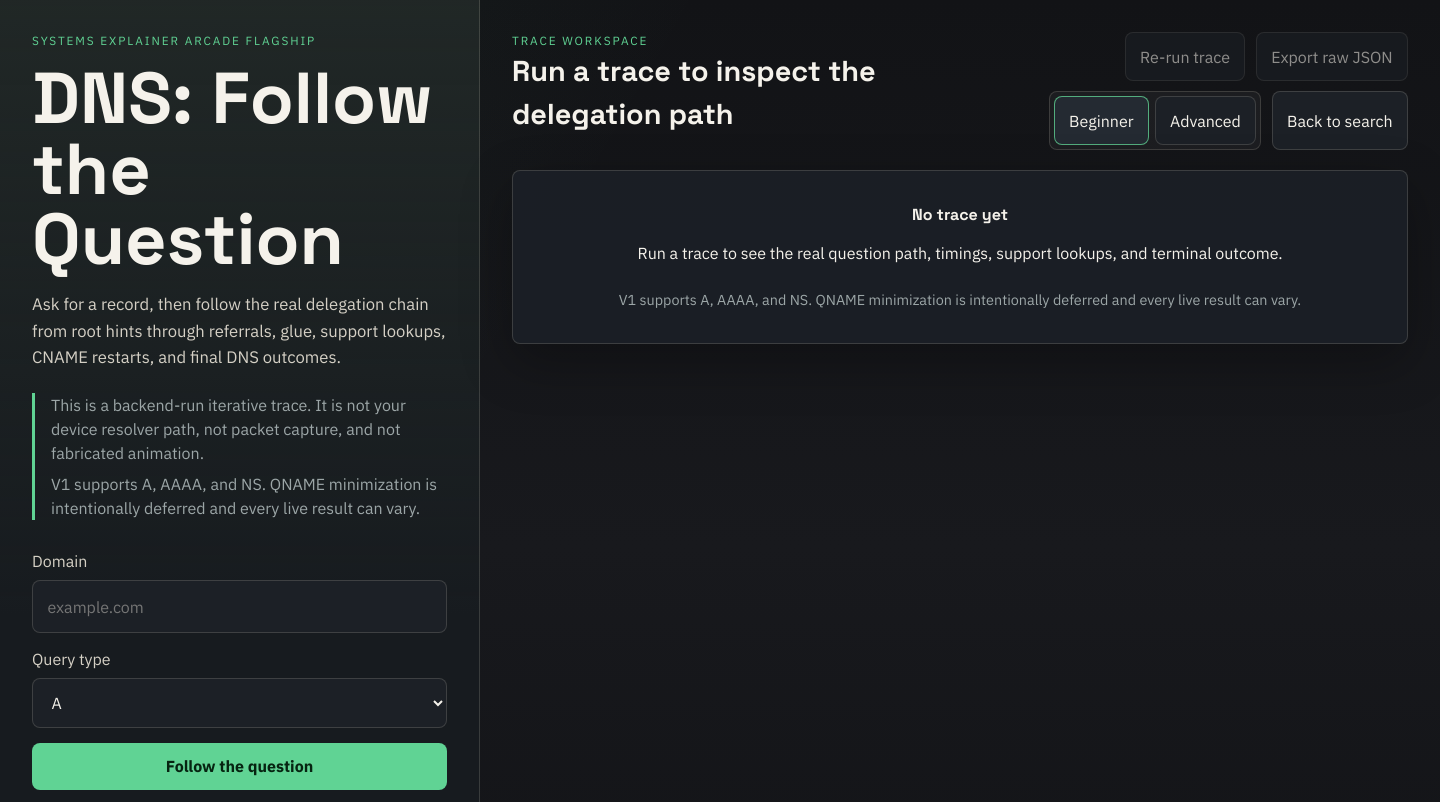
Test: App › renders the flagship trace journey and exposes support steps
Expected: the heading "DNS: Follow the Question" is shown, [32,63,447,275]
Expected: the text "not your device resolver path" is shown, [51,395,406,463]
Step 1. Type "service.example.com" into the field labelled "Domain" → (240,606), box [32,580,447,633]
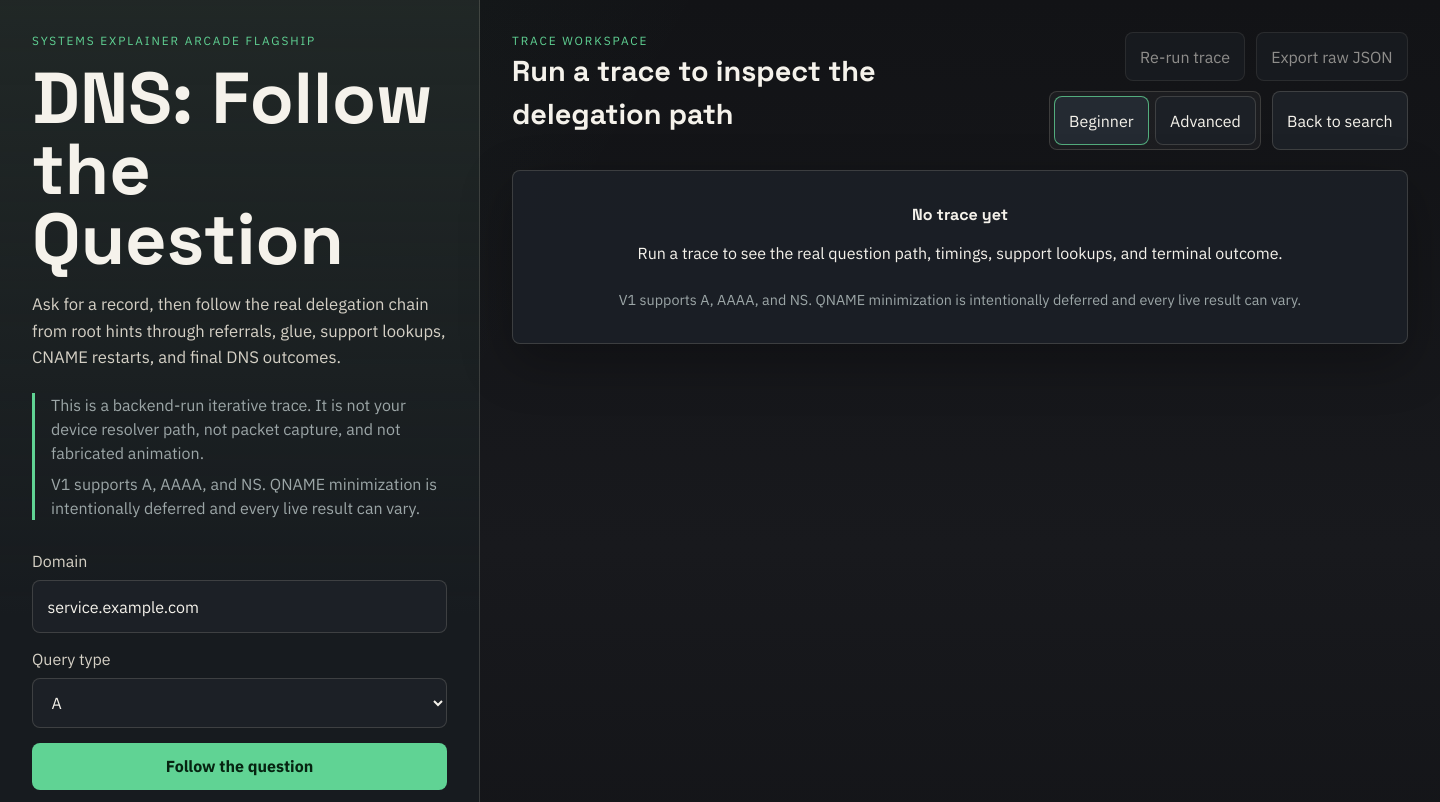
Step 2. Click the button "Follow the question" → (240,766), box [32,743,447,790]
(page scrolled)
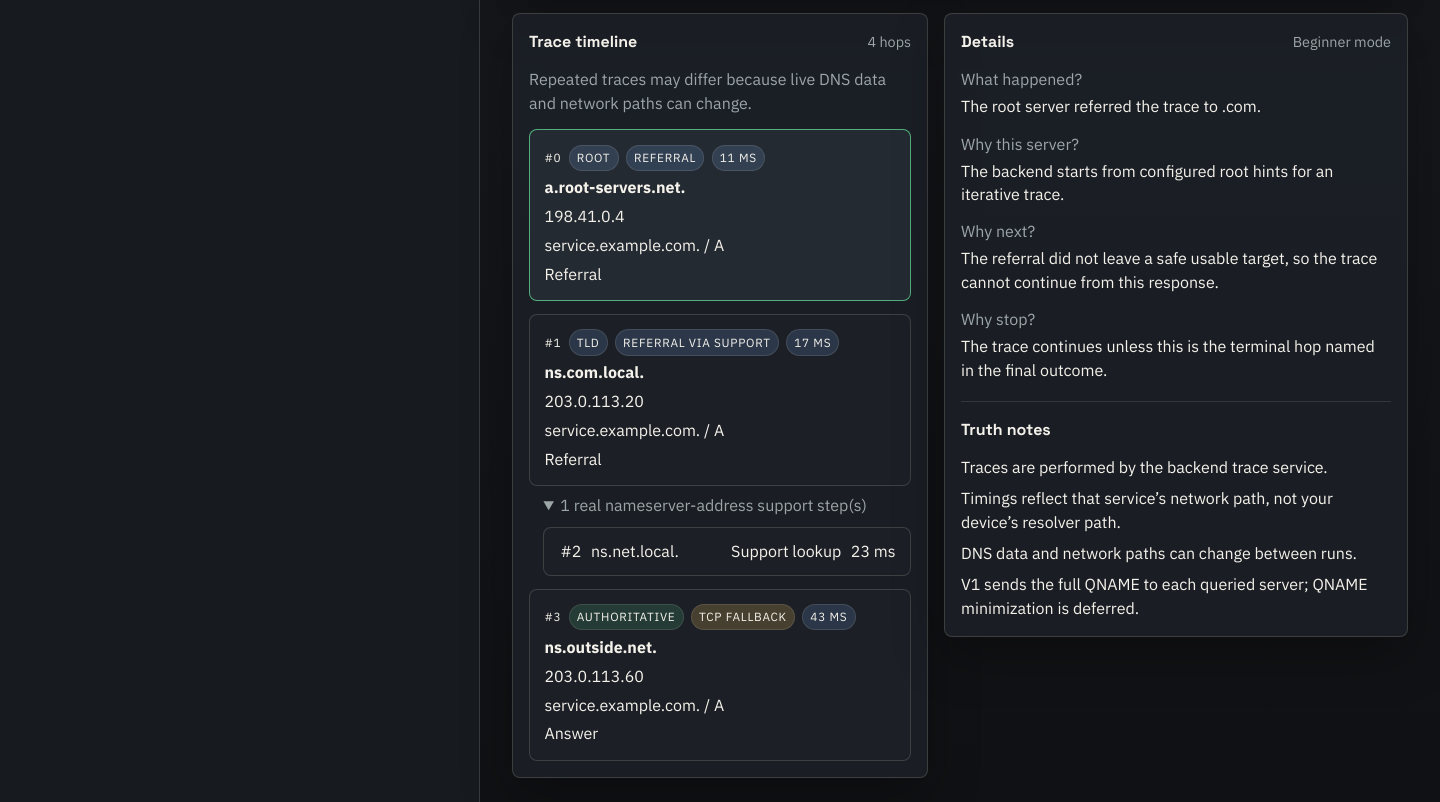
Result: the heading "Trace timeline" is shown at [529,30,637,54]
Result: the heading "1 real nameserver-address support step(s)" is shown at [560,495,867,515]
Result: the text "Support lookup" is shown at [731,539,841,563]
Step 3. Click the button with aria-label "Hop 3, Authoritative, TCP fallback, service.example.com. A," → (626,617), box [529,589,911,761]
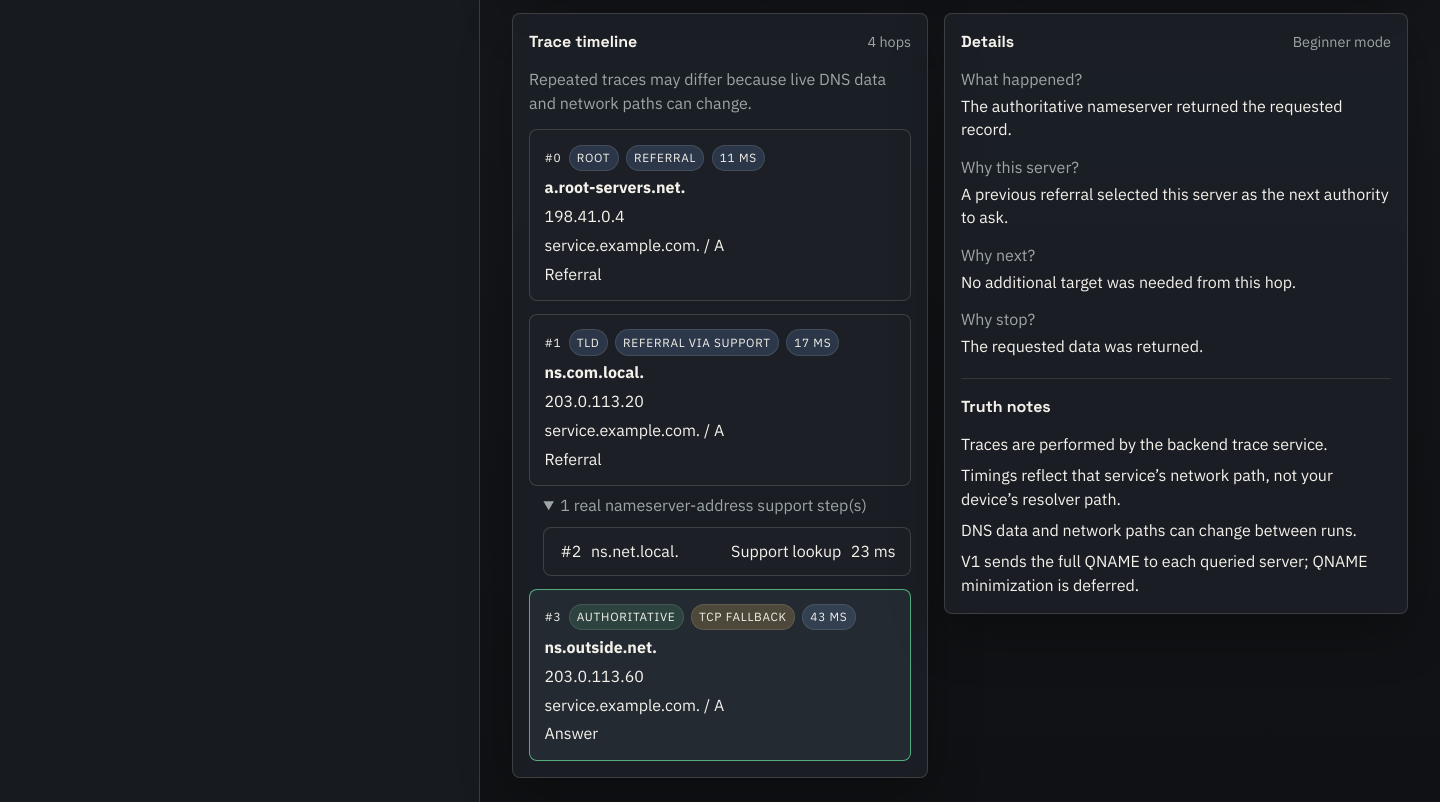
Result: the list item "QNAME minimization is deferred" is shown at [961,551,1368,595]
Result: the text "The requested data was returned." is shown at [961,336,1203,356]
